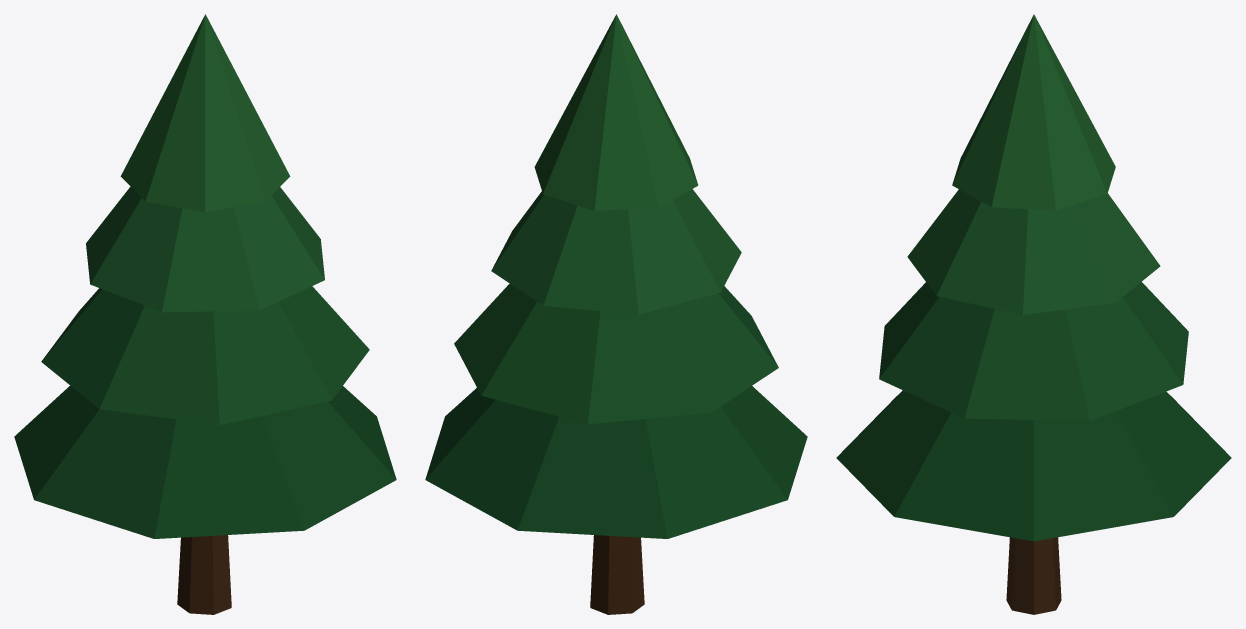
The model's file is pine.glb.
3 views of the same model, side by side, from view 1: azimuth 30°, elevation 25°; view 2: azimuth 150°, elevation 25°; view 3: azimuth 270°, elevation 25° (orthographic).
Visible parts, largest first — view 1: pine; view 2: pine; view 3: pine.
Boxes of the visible parts, <box> form: pine: <box>14,14,396,614</box>; pine: <box>425,14,807,614</box>; pine: <box>836,14,1231,614</box>.
Bounding box in the file's own units: 4.2 × 6.9 × 4.2.
